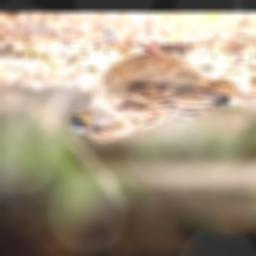Sparrow: (69, 42, 256, 142)
